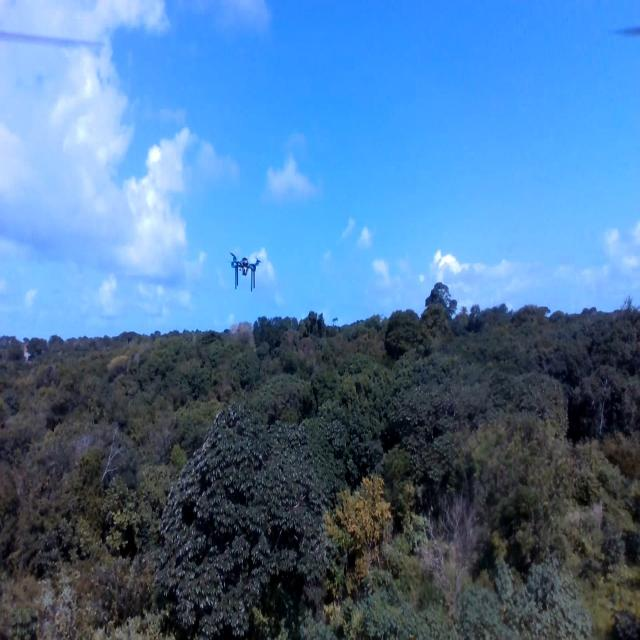-uav-: (224, 236, 268, 304)
